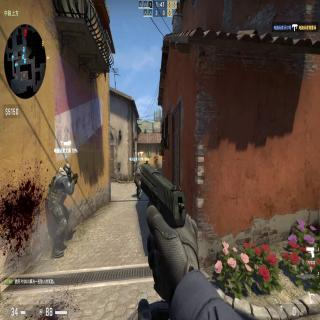CT-Body: (48, 162, 76, 258)
CT-Head: (62, 163, 72, 179)
